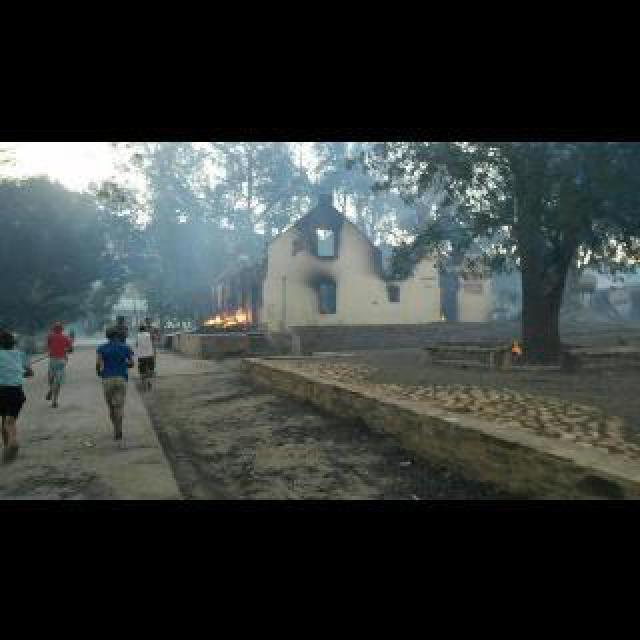Fire: (204, 310, 248, 324), (504, 334, 524, 358)
